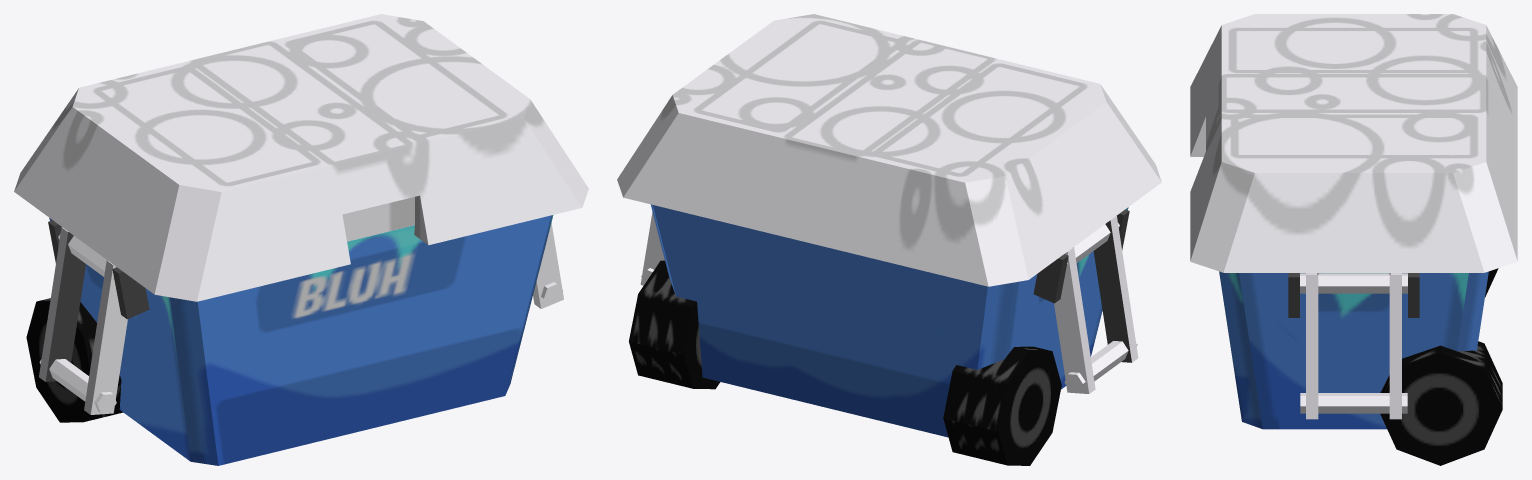
The model's file is coolerClosed.fbx.
3 renders of one model, left to right at view 1: azimuth 30°, elevation 25°; view 2: azimuth 150°, elevation 25°; view 3: azimuth 270°, elevation 25°, orthographic. The views are drawn at different scales.
Parts seen in each view (by area): view 1: coolerLid.001|coolerLid|Dupli|, coolerBase.001|coolerBase|Dupli|, coolerBase.001|handle|Dupli|0.2, coolerBase.001|wheels|Dupli|3, coolerBase.001|handlebrace|Dupli|1.2, coolerBase.001|handle|Dupli|0.1; view 2: coolerLid.001|coolerLid|Dupli|, coolerBase.001|coolerBase|Dupli|, coolerBase.001|wheels|Dupli|3, coolerBase.001|handle|Dupli|0.2, coolerBase.001|handlebrace|Dupli|1.2, coolerBase.001|handle|Dupli|0.1; view 3: coolerLid.001|coolerLid|Dupli|, coolerBase.001|coolerBase|Dupli|, coolerBase.001|wheels|Dupli|3, coolerBase.001|handle|Dupli|0.1, coolerBase.001|handlebrace|Dupli|1.1.
Boxes of the visible parts, <box> form: coolerLid.001|coolerLid|Dupli|: <box>14,14,588,301</box>; coolerBase.001|coolerBase|Dupli|: <box>49,215,553,465</box>; coolerBase.001|handle|Dupli|0.2: <box>39,227,127,414</box>; coolerBase.001|wheels|Dupli|3: <box>26,298,122,422</box>; coolerBase.001|handlebrace|Dupli|1.2: <box>48,220,149,319</box>; coolerBase.001|handle|Dupli|0.1: <box>533,223,563,308</box>; coolerLid.001|coolerLid|Dupli|: <box>617,14,1161,286</box>; coolerBase.001|coolerBase|Dupli|: <box>650,204,1128,437</box>; coolerBase.001|wheels|Dupli|3: <box>629,260,1061,465</box>; coolerBase.001|handle|Dupli|0.2: <box>1054,216,1138,393</box>; coolerBase.001|handlebrace|Dupli|1.2: <box>1033,209,1129,303</box>; coolerBase.001|handle|Dupli|0.1: <box>640,212,664,285</box>; coolerLid.001|coolerLid|Dupli|: <box>1190,14,1517,272</box>; coolerBase.001|coolerBase|Dupli|: <box>1219,271,1488,429</box>; coolerBase.001|wheels|Dupli|3: <box>1380,268,1502,465</box>; coolerBase.001|handle|Dupli|0.1: <box>1300,273,1407,419</box>; coolerBase.001|handlebrace|Dupli|1.1: <box>1288,273,1419,317</box>.
Size of the model in its own units: 239 by 148 by 154.
